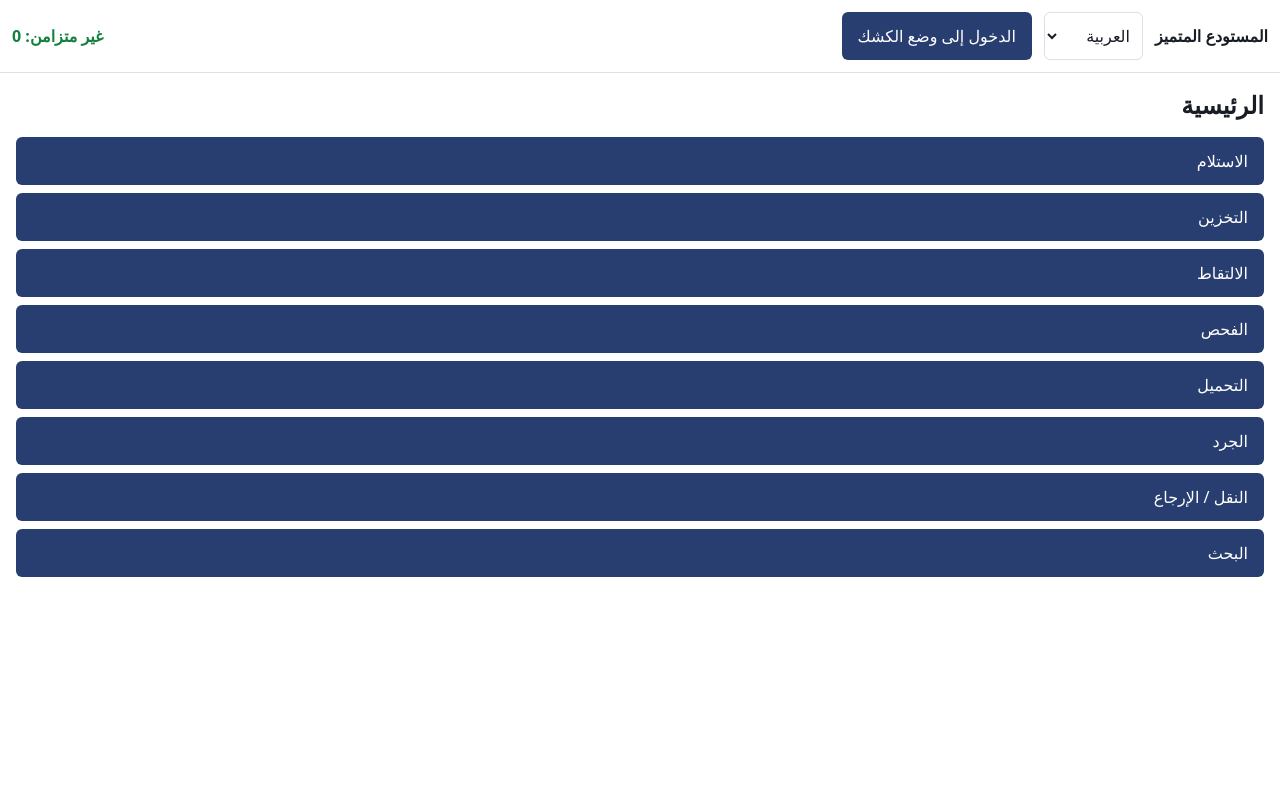
Test: PDA shell routing — nine D4 screens › locale switching via the shell's own selector › switching to "ur" updates dir, lang, and the rendered screen title
Check: the heading "الرئيسية" is shown, box [1181, 88, 1264, 121]
Select "الأردية" in the dropdown with test id "locale-select" at (1093, 36), box [1044, 12, 1143, 60]
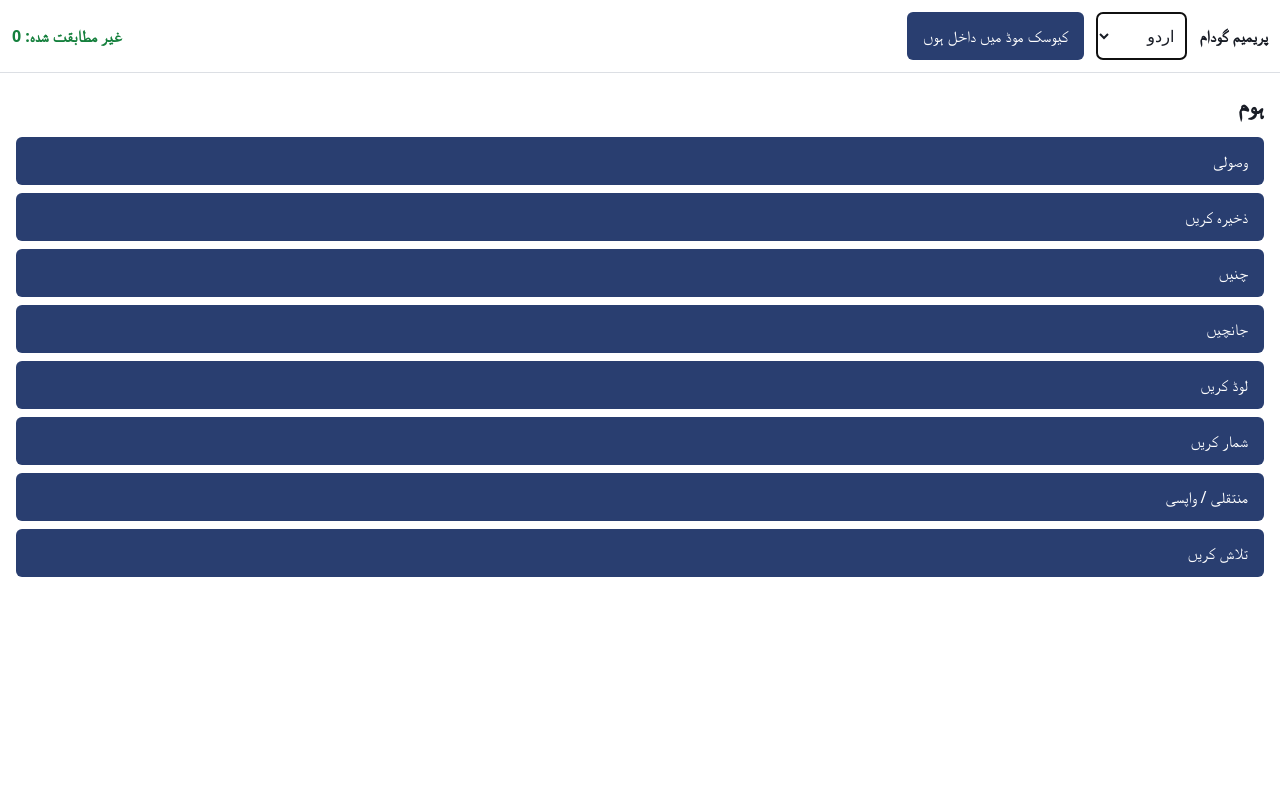
Check: the heading "ہوم" is shown, box [1238, 88, 1264, 121]
